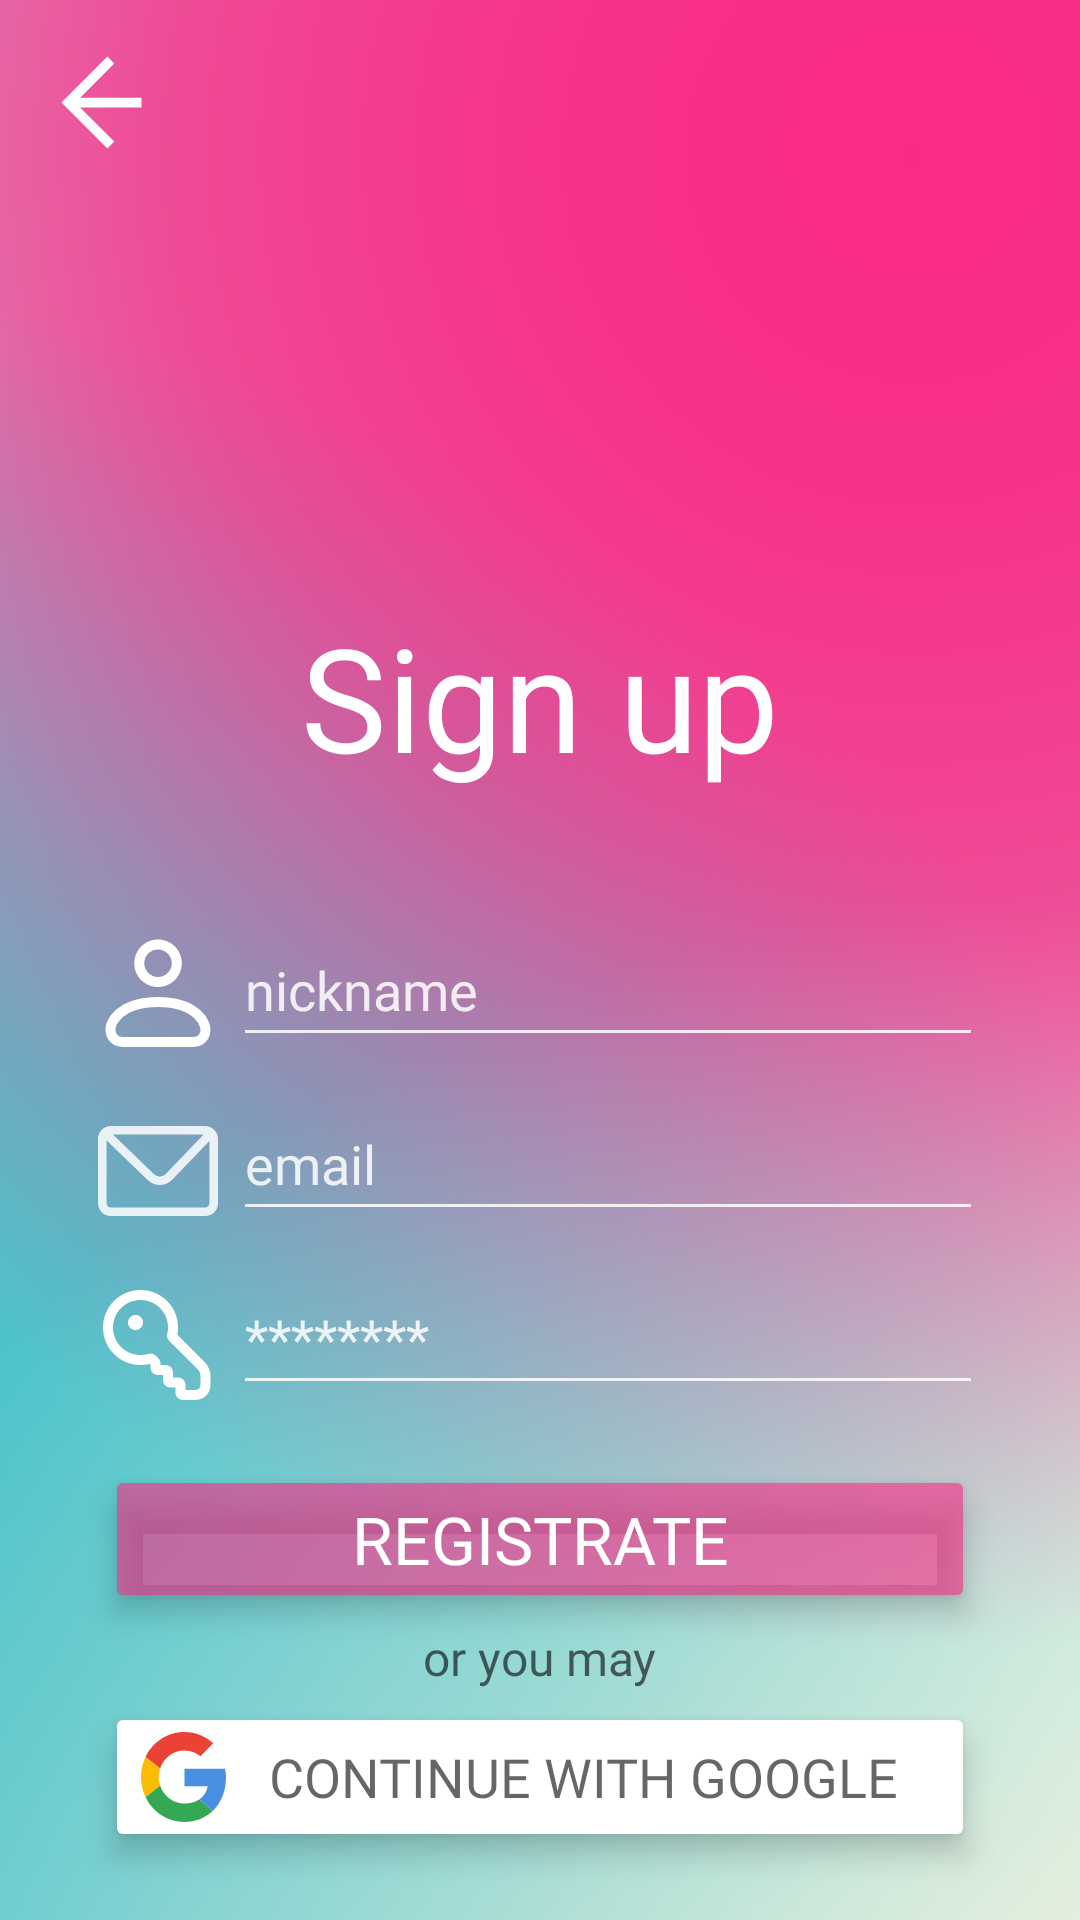

Icons on this 1080*1920 Android screen, each with the point to tap as point (x, y):
Go back in Sing in: point (86, 102)
message: point (158, 1171)
password: point (158, 1345)
user: point (158, 992)
